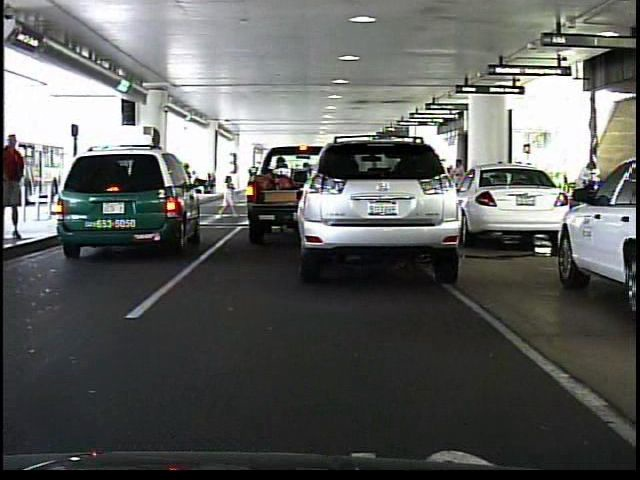person: (5, 133, 32, 244), (213, 169, 242, 223), (449, 156, 469, 206)
